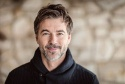male: (33, 7, 73, 63)
